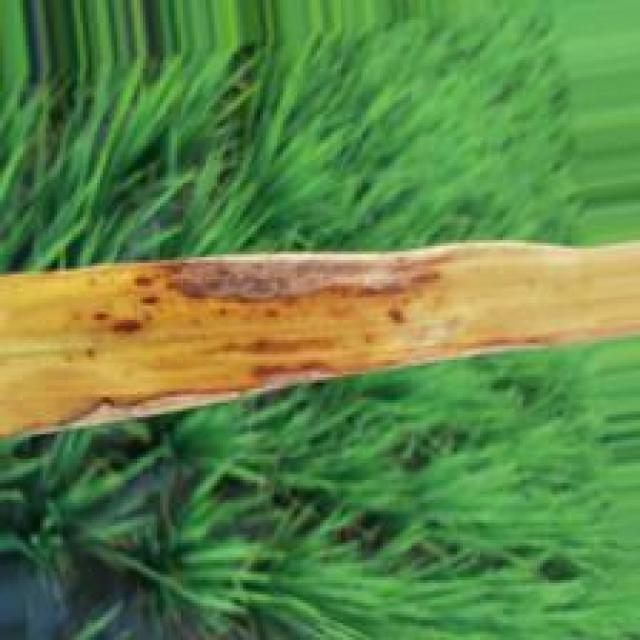Leaf_Scald: (10, 357, 404, 434), (134, 242, 456, 334), (92, 305, 151, 338)
